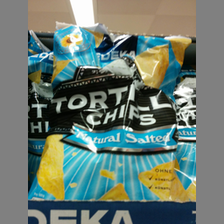chips: (33, 22, 189, 201)
